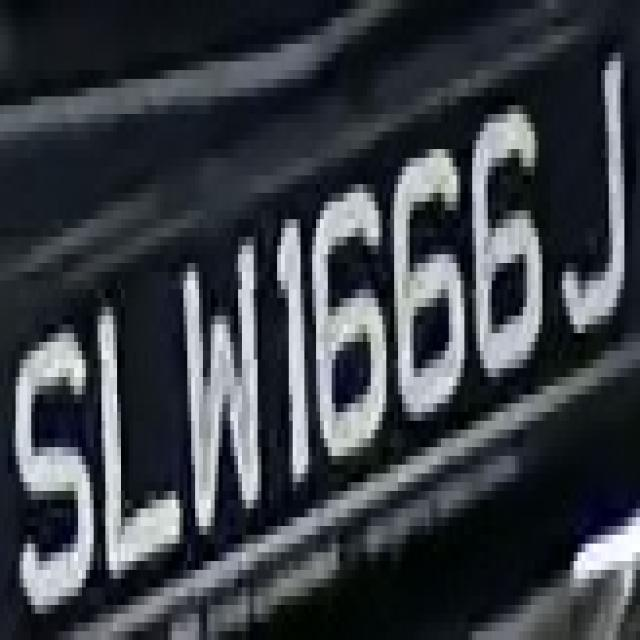1: (273, 184, 312, 561)
6: (301, 158, 398, 464), (452, 96, 542, 386), (390, 140, 472, 438)
J: (550, 44, 640, 359)
L: (90, 280, 187, 588)
S: (0, 298, 98, 631)
W: (176, 202, 277, 526)
